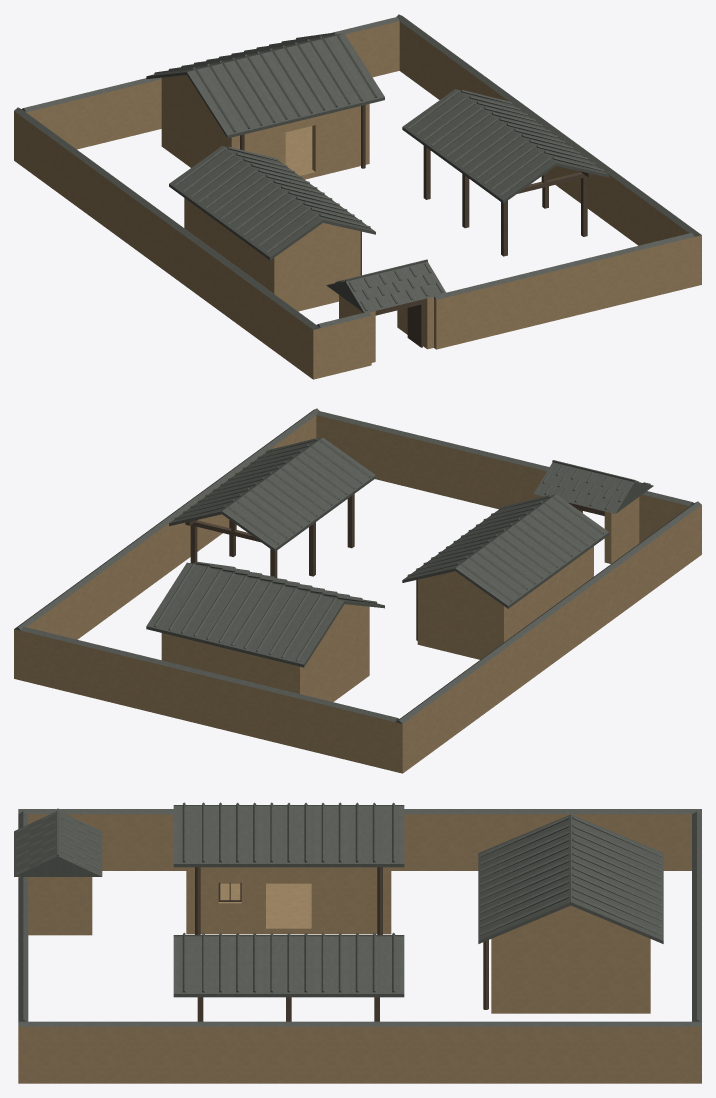
File: compact_work-LOD1.glb
3 views of the same model, one above another, from view 1: azimuth 30°, elevation 25°; view 2: azimuth 150°, elevation 25°; view 3: azimuth 270°, elevation 25° (orthographic). The views are drawn at different scales.
Parts seen in each view (by area): view 1: compact_work_earth, compact_work_tile, compact_work_timber; view 2: compact_work_earth, compact_work_tile, compact_work_timber; view 3: compact_work_earth, compact_work_tile, compact_work_timber.
Part boxes in pixels (x1,y1,x2,y2): compact_work_earth: (14,21,701,379); compact_work_tile: (14,14,701,329); compact_work_timber: (240,105,592,347); compact_work_earth: (14,415,701,773); compact_work_tile: (14,408,701,723); compact_work_timber: (185,494,604,640); compact_work_earth: (18,814,701,1083); compact_work_tile: (14,802,701,1026); compact_work_timber: (195,867,488,1021).
Bounding box in the file's own units: 18 × 4.63 × 24.15.
Materials: 3 (3 with a texture image).
